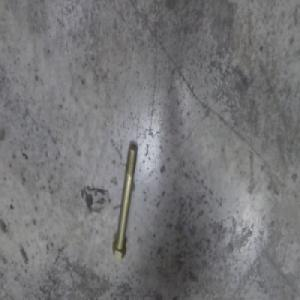Bolt: (110, 145, 136, 265)
